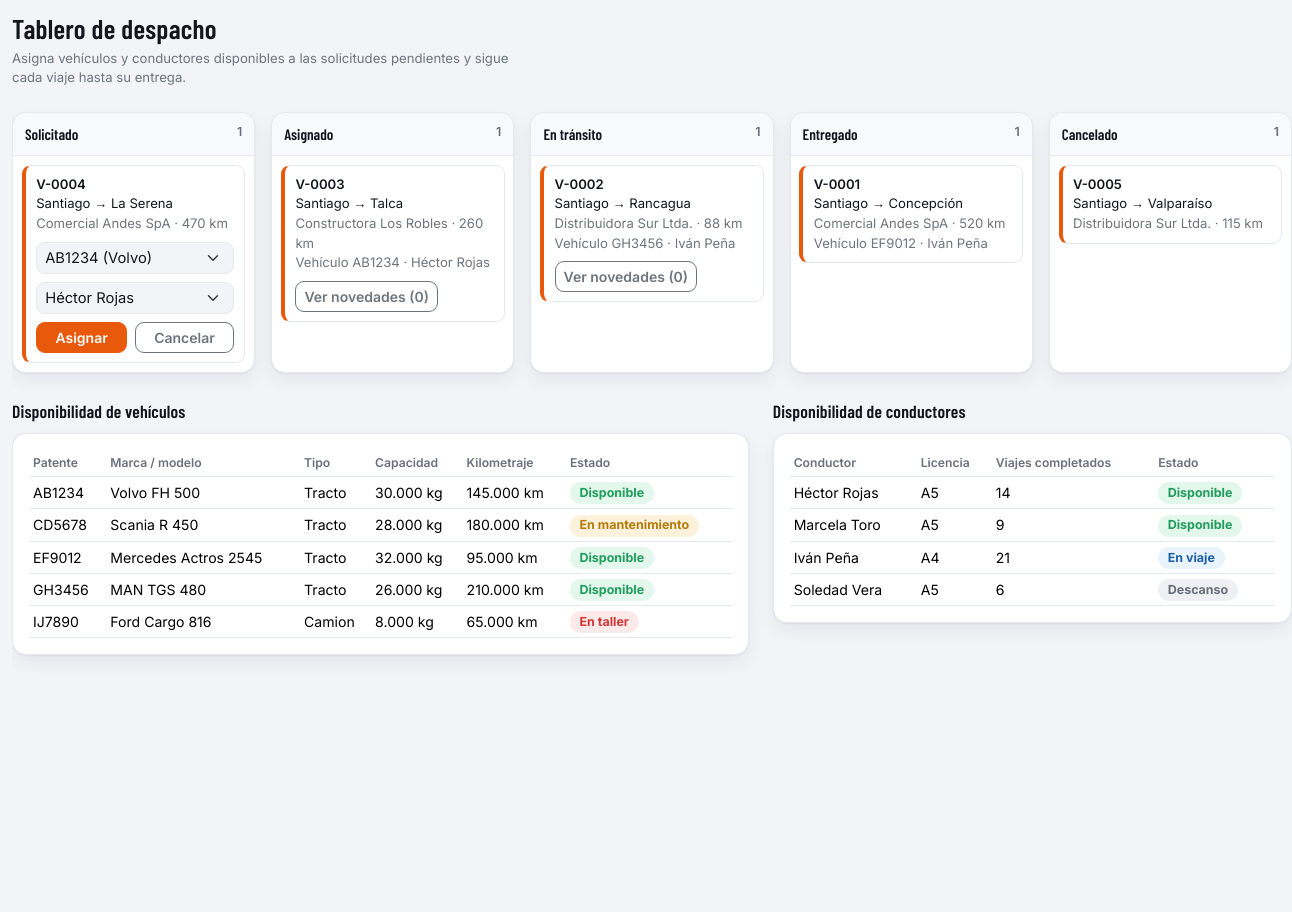
Test: SupervisorView › asigna un viaje solicitado y lo mueve a la columna Asignado
Click the button "Asignar": (82, 337) 36,322 -> 127,353
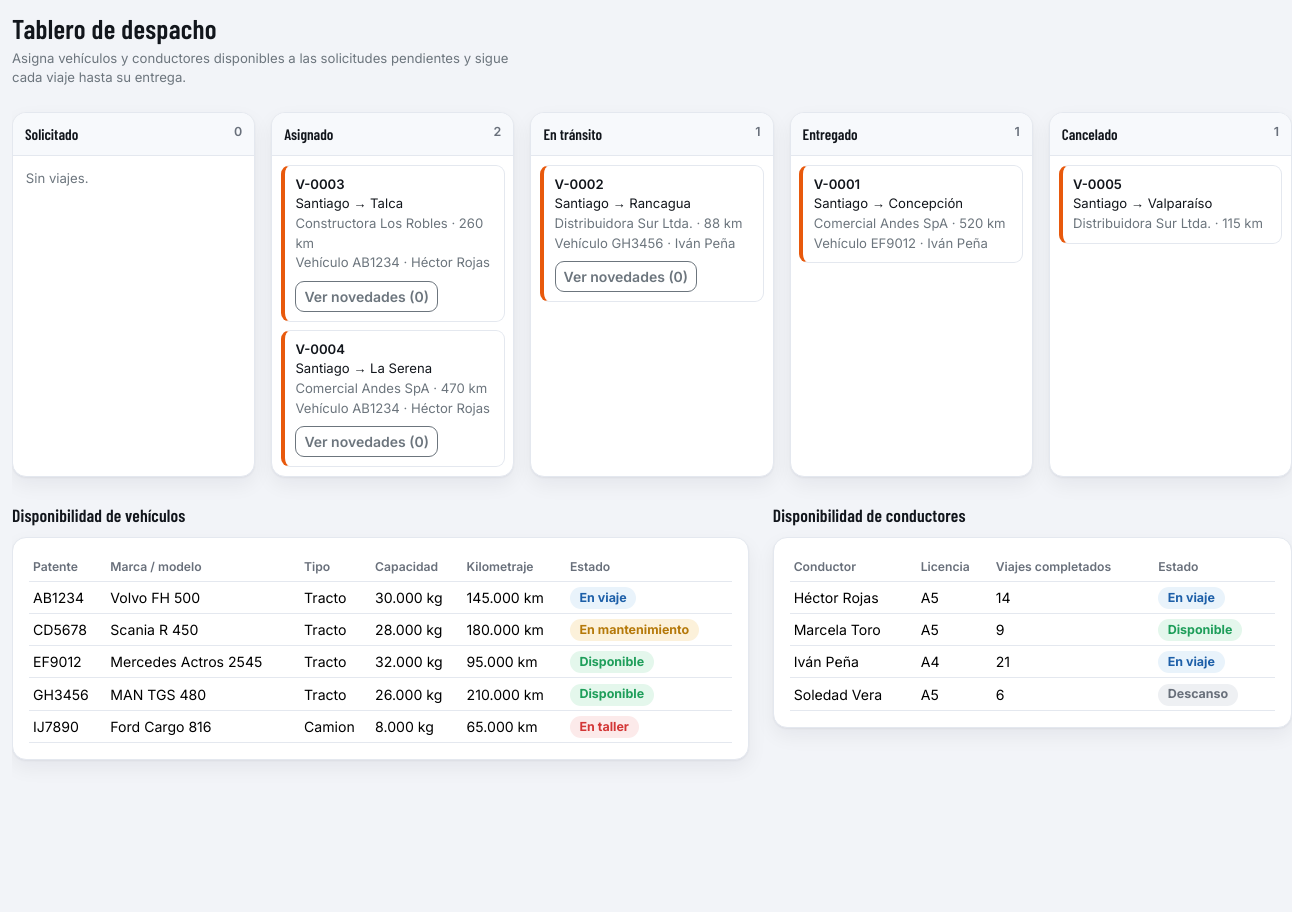
Expected: the text "V-0004" is shown, 295,341 -> 345,357
Result: the text "Sin viajes." is shown at 26,170 -> 88,186
